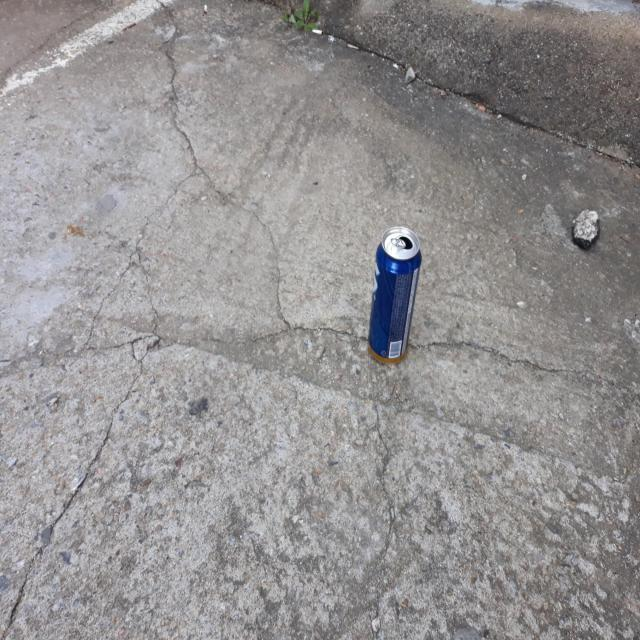can: (369, 226, 422, 363)
